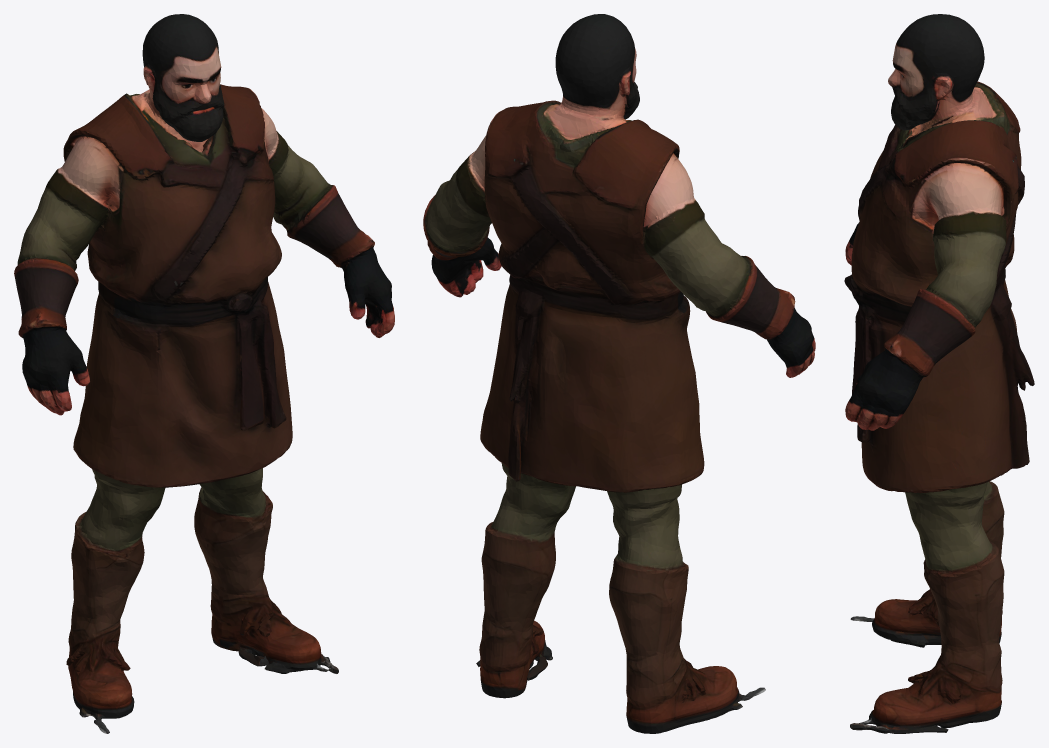
The model's file is villager_smith.glb.
3 renders of one model, left to right at view 1: azimuth 30°, elevation 25°; view 2: azimuth 150°, elevation 25°; view 3: azimuth 270°, elevation 25°, orthographic. The views are drawn at different scales.
Visible parts, largest first — view 1: textured_mesh.obj; view 2: textured_mesh.obj; view 3: textured_mesh.obj.
Part boxes in pixels (x1,y1,x2,y2): textured_mesh.obj: (14, 14, 394, 733); textured_mesh.obj: (423, 14, 815, 733); textured_mesh.obj: (844, 14, 1034, 733).
Bounding box in the file's own units: 1.14 × 1.99 × 0.5179.
Materials: 1 (1 with a texture image).
